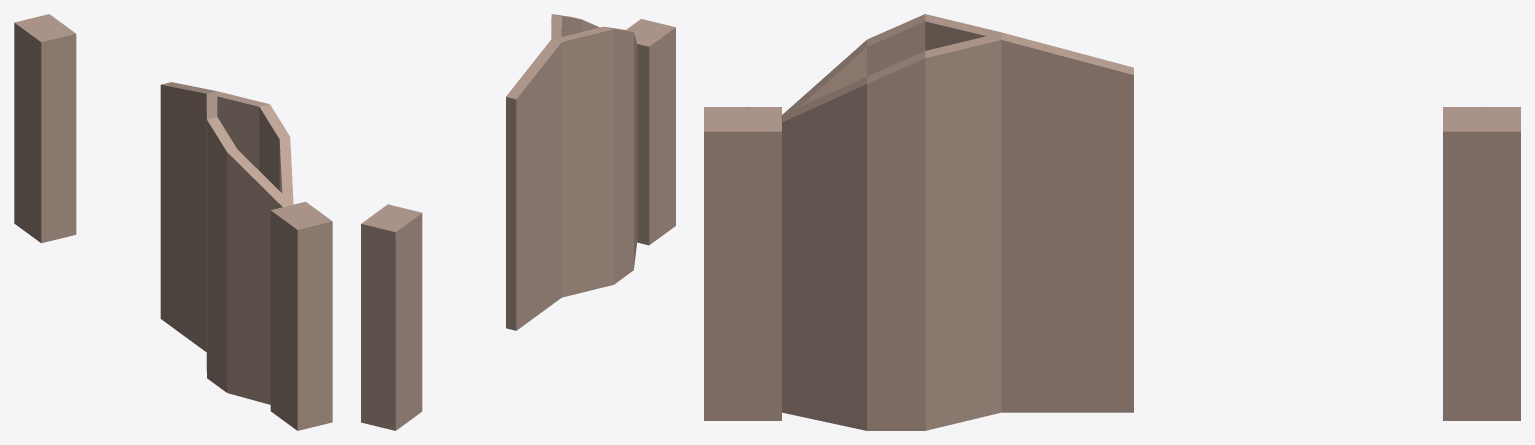
The model's file is Nivel12.fbx.
3 views of the same model, side by side, from view 1: azimuth 30°, elevation 25°; view 2: azimuth 150°, elevation 25°; view 3: azimuth 270°, elevation 25° (orthographic). The views are drawn at different scales.
Parts seen in each view (by area): view 1: Plataforma-M.018, Plataforma-M.020, Plataforma-M.019, Plataforma-M.022, Plataforma-M.021, Plataforma-M.027, Plataforma-M.026, Plataforma-M.023, Plataforma-M.025, Plataforma-M.024; view 2: Plataforma-M.018, Plataforma-M.019, Plataforma-M.020, Plataforma-M.021, Plataforma-M.024, Plataforma-M.023, Plataforma-M.026; view 3: Plataforma-M.018, Plataforma-M.020, Plataforma-M.019, Plataforma-M.021, Plataforma-M.027, Plataforma-M.025, Plataforma-M.023, Plataforma-M.026, Plataforma-M.022, Plataforma-M.024.
Part boxes in pixels (left/top/right/bottom): Plataforma-M.018: left=160, top=103, right=281, bottom=404; Plataforma-M.020: left=270, top=201, right=332, bottom=430; Plataforma-M.019: left=14, top=14, right=76, bottom=243; Plataforma-M.022: left=227, top=149, right=293, bottom=210; Plataforma-M.021: left=160, top=82, right=216, bottom=113; Plataforma-M.027: left=217, top=91, right=269, bottom=126; Plataforma-M.026: left=259, top=104, right=289, bottom=157; Plataforma-M.023: left=207, top=117, right=237, bottom=170; Plataforma-M.025: left=279, top=137, right=293, bottom=206; Plataforma-M.024: left=206, top=91, right=217, bottom=132; Plataforma-M.018: left=506, top=49, right=637, bottom=330; Plataforma-M.019: left=361, top=204, right=422, bottom=430; Plataforma-M.020: left=626, top=19, right=675, bottom=245; Plataforma-M.021: left=506, top=39, right=561, bottom=117; Plataforma-M.024: left=561, top=26, right=613, bottom=61; Plataforma-M.023: left=604, top=26, right=633, bottom=50; Plataforma-M.026: left=554, top=14, right=581, bottom=36; Plataforma-M.018: left=782, top=50, right=1133, bottom=430; Plataforma-M.020: left=704, top=107, right=781, bottom=420; Plataforma-M.019: left=1443, top=107, right=1520, bottom=420; Plataforma-M.021: left=1001, top=32, right=1133, bottom=101; Plataforma-M.027: left=925, top=33, right=1001, bottom=87; Plataforma-M.025: left=781, top=76, right=866, bottom=145; Plataforma-M.023: left=867, top=14, right=925, bottom=73; Plataforma-M.026: left=867, top=51, right=925, bottom=110; Plataforma-M.022: left=781, top=40, right=866, bottom=121; Plataforma-M.024: left=925, top=14, right=1001, bottom=50.
Bounding box in the file's own units: 2186 × 8559 × 17002.
